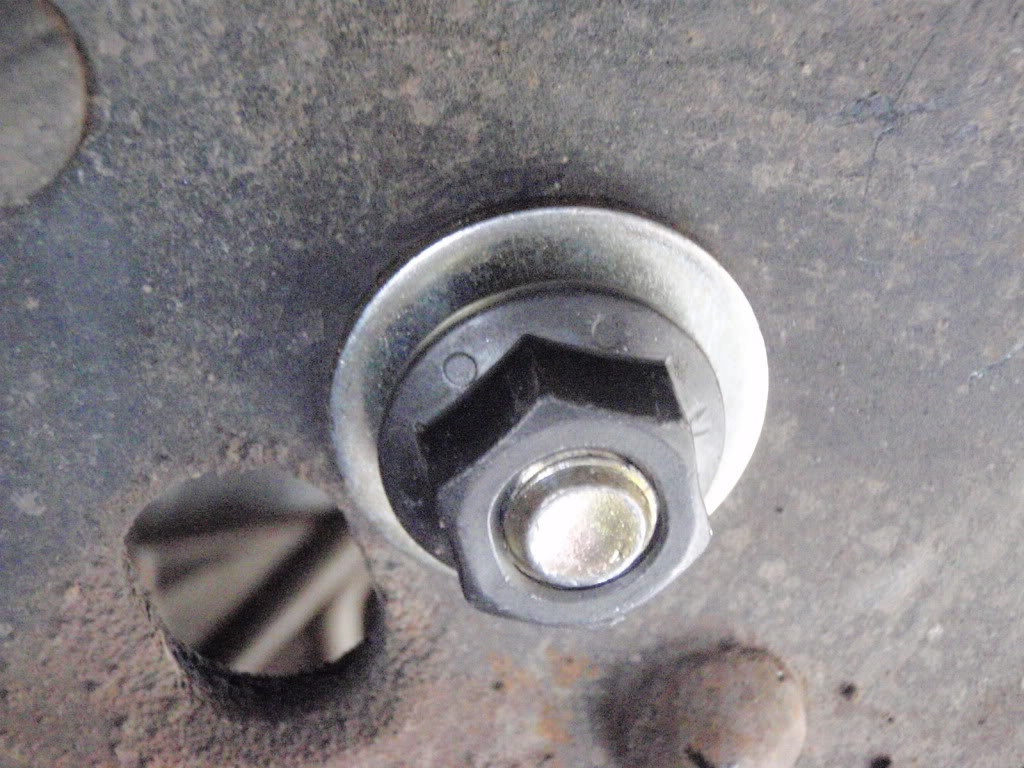bolt_b: (415, 329, 716, 639)
